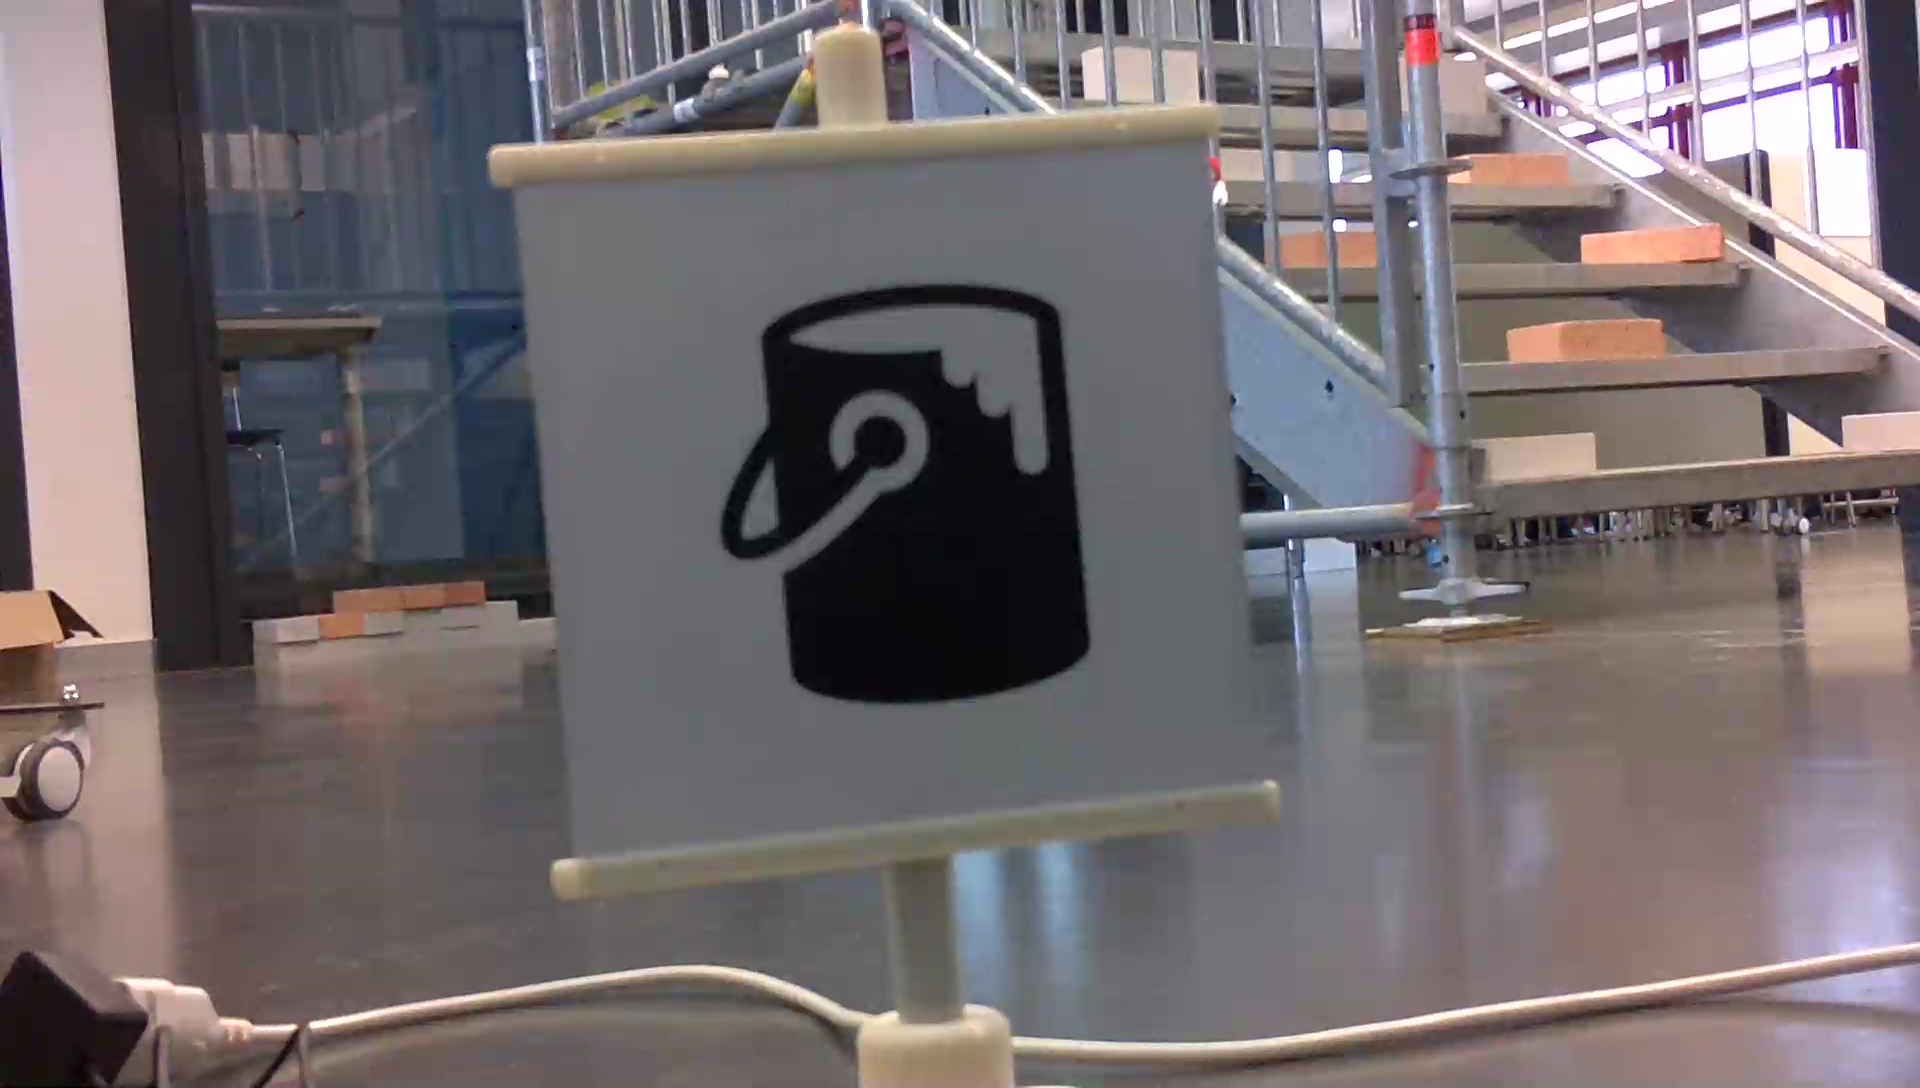brick: (1509, 323, 1660, 357), (1585, 226, 1724, 262), (1490, 433, 1593, 479), (1462, 154, 1567, 185), (1842, 411, 1917, 448), (1437, 58, 1485, 113)
bucket: (711, 273, 1102, 712)
edge: (1502, 454, 1917, 514), (1465, 342, 1898, 390)
